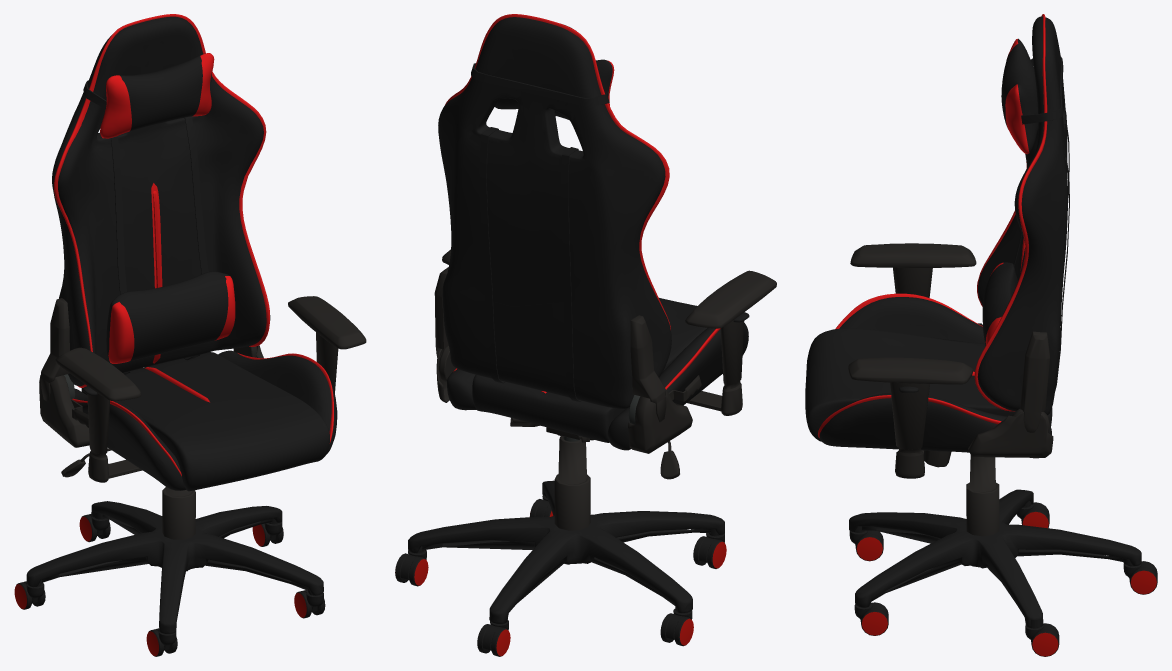
Rendered from gaming_chair.glb.
3 renders of one model, left to right at view 1: azimuth 30°, elevation 25°; view 2: azimuth 150°, elevation 25°; view 3: azimuth 270°, elevation 25°, orthographic. The views are drawn at different scales.
Parts seen in each view (by area): view 1: Mesh1 skp7AF7_1 Model__auto__0, Mesh14 skp7AF7_1 Model_Plastic_Black_Matte_0, Mesh13 skp7AF7_1 Model__auto_5.001_0, Mesh2 skp7AF7_1 Model__auto_1_0; view 2: Mesh1 skp7AF7_1 Model__auto__0, Mesh14 skp7AF7_1 Model_Plastic_Black_Matte_0, Mesh13 skp7AF7_1 Model__auto_5.001_0, Mesh2 skp7AF7_1 Model__auto_1_0; view 3: Mesh1 skp7AF7_1 Model__auto__0, Mesh14 skp7AF7_1 Model_Plastic_Black_Matte_0, Mesh13 skp7AF7_1 Model__auto_5.001_0, Mesh2 skp7AF7_1 Model__auto_1_0.
Boxes of the visible parts, x1=… form: Mesh1 skp7AF7_1 Model__auto__0: x1=16, y1=16, x2=337, y2=656; Mesh14 skp7AF7_1 Model_Plastic_Black_Matte_0: x1=39, y1=296, x2=366, y2=539; Mesh13 skp7AF7_1 Model__auto_5.001_0: x1=54, y1=14, x2=333, y2=476; Mesh2 skp7AF7_1 Model__auto_1_0: x1=14, y1=516, x2=306, y2=656; Mesh1 skp7AF7_1 Model__auto__0: x1=395, y1=17, x2=749, y2=656; Mesh14 skp7AF7_1 Model_Plastic_Black_Matte_0: x1=434, y1=249, x2=776, y2=530; Mesh13 skp7AF7_1 Model__auto_5.001_0: x1=445, y1=14, x2=720, y2=393; Mesh2 skp7AF7_1 Model__auto_1_0: x1=414, y1=511, x2=726, y2=656; Mesh1 skp7AF7_1 Model__auto__0: x1=805, y1=16, x2=1157, y2=656; Mesh14 skp7AF7_1 Model_Plastic_Black_Matte_0: x1=848, y1=243, x2=1053, y2=536; Mesh13 skp7AF7_1 Model__auto_5.001_0: x1=818, y1=14, x2=1047, y2=437; Mesh2 skp7AF7_1 Model__auto_1_0: x1=856, y1=511, x2=1156, y2=656.
Bounding box in the file's own units: 2650 × 5308 × 2990.
Materials: 5 (5 with a texture image).
